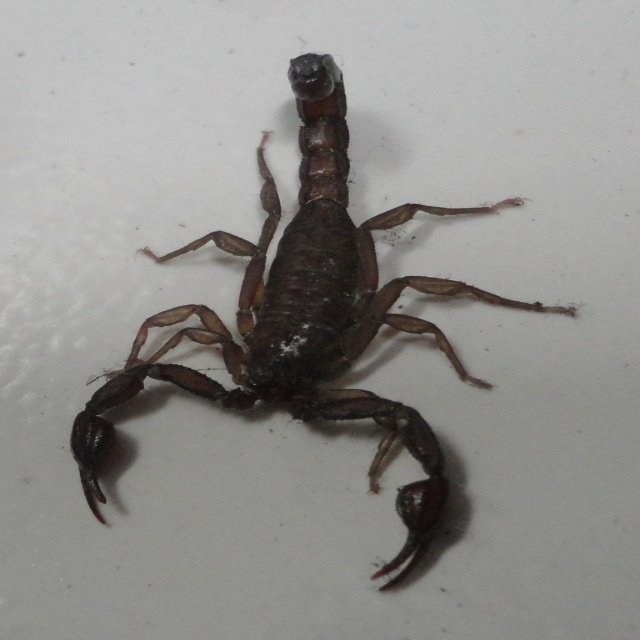Scorpion: (69, 52, 577, 592)
